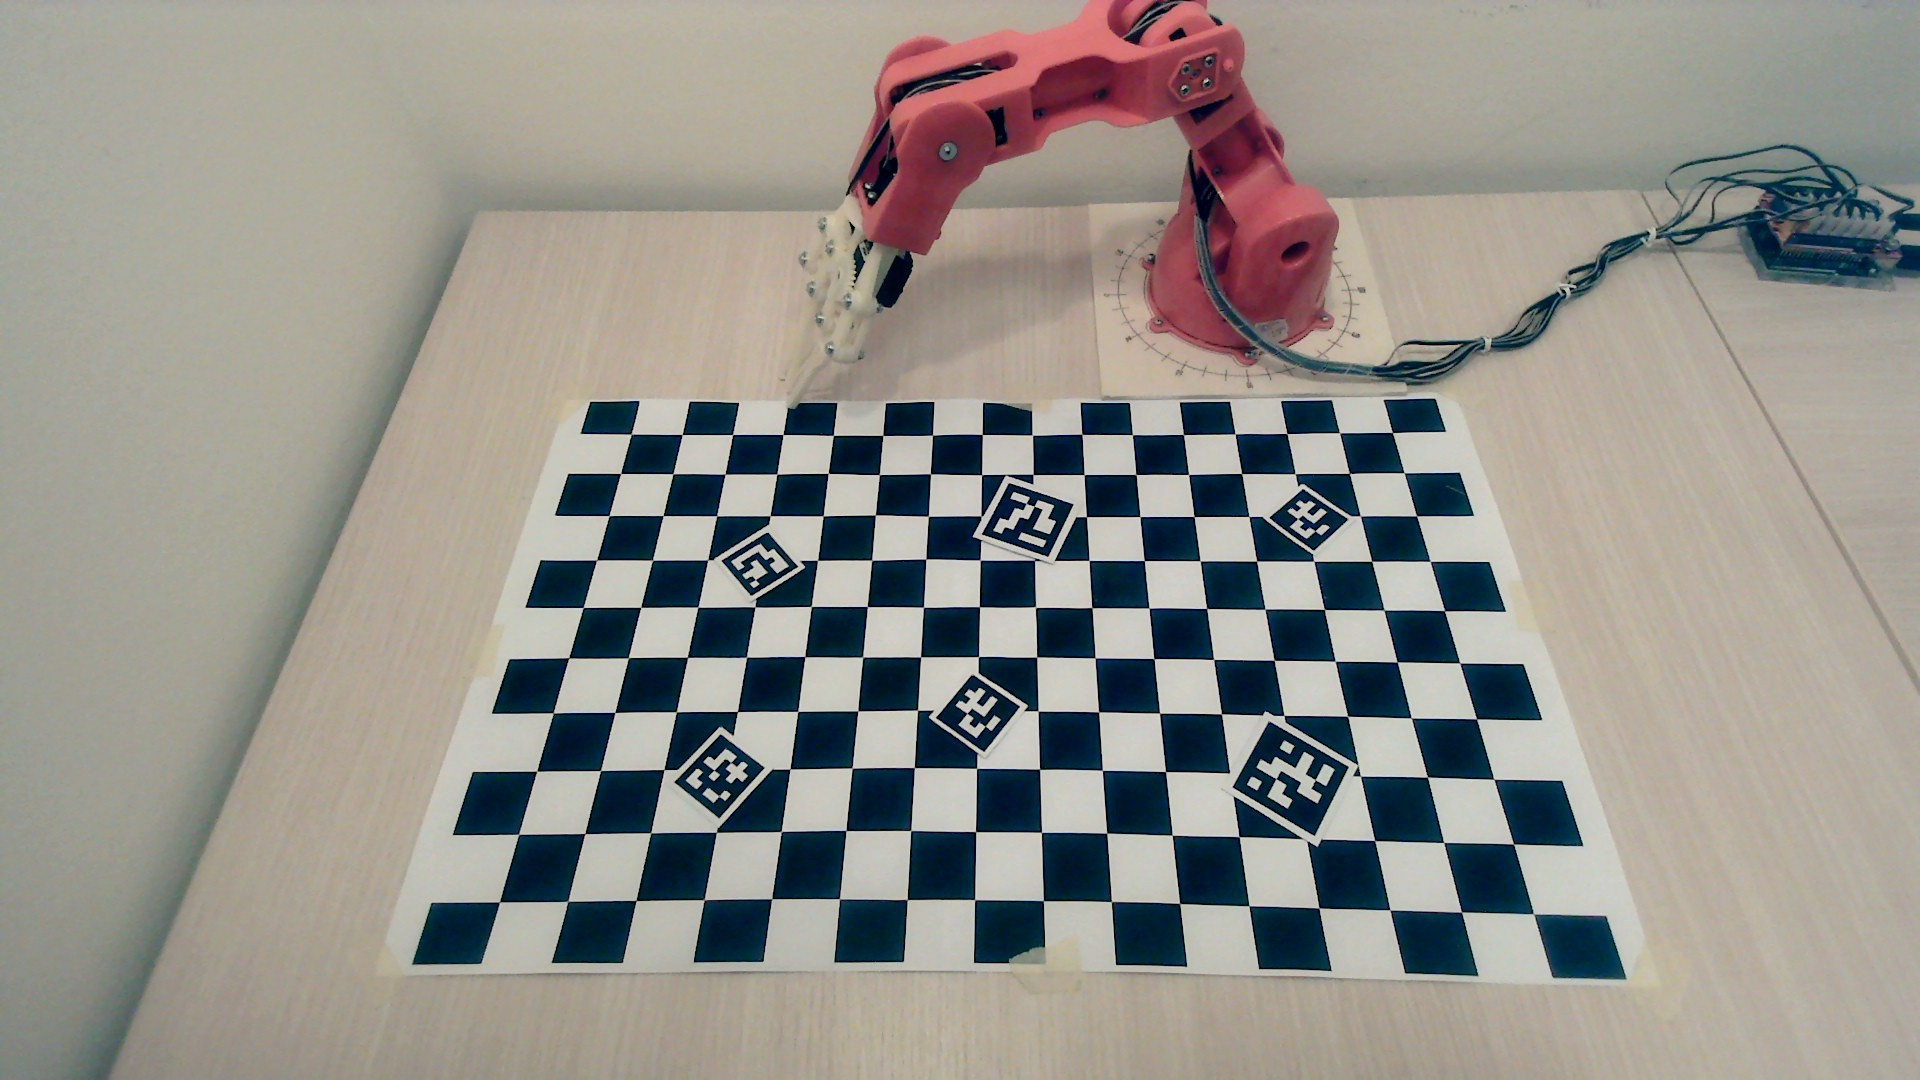marker: (1233, 717, 1354, 837), (676, 731, 764, 822), (981, 481, 1073, 560), (934, 673, 1022, 752), (1267, 487, 1349, 553), (723, 531, 798, 597)
